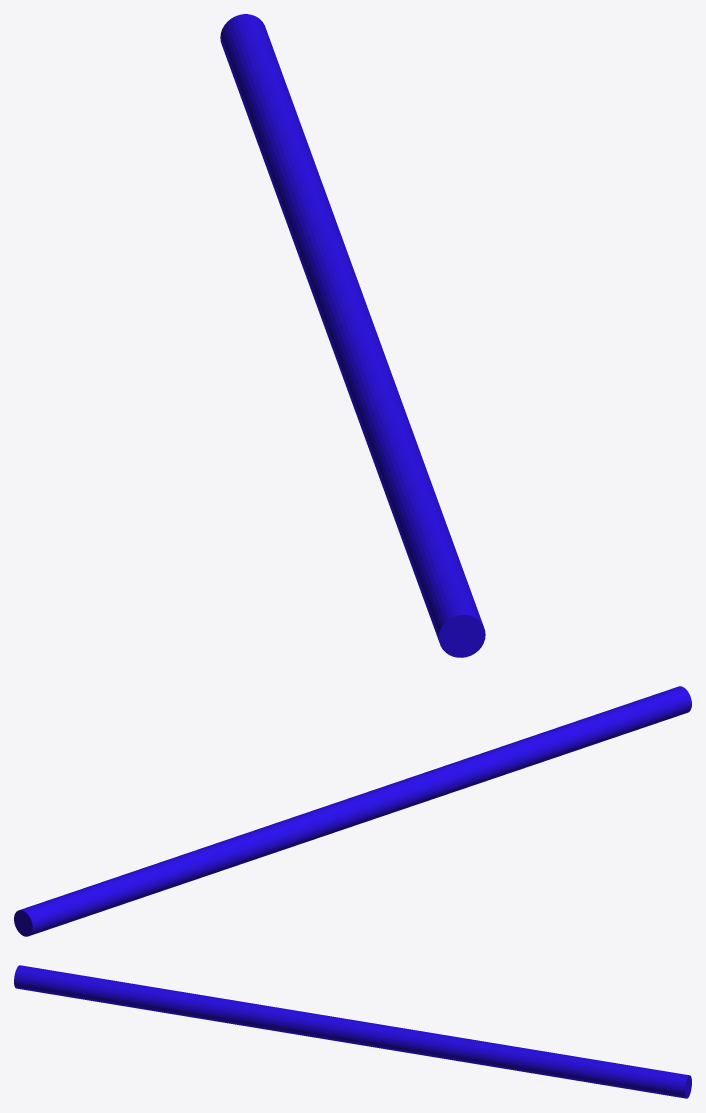
3 renders of one model, top to bottom at view 1: azimuth 30°, elevation 25°; view 2: azimuth 150°, elevation 25°; view 3: azimuth 270°, elevation 25°, orthographic. The views are drawn at different scales.
Parts seen in each view (by area): view 1: Циліндр.004; view 2: Циліндр.004; view 3: Циліндр.004.
Part boxes in pixels (x1,y1,x2,y2): Циліндр.004: (220,14,485,657); Циліндр.004: (14,686,691,936); Циліндр.004: (14,965,691,1098).
Size of the model in its own units: 1.15 by 0.0964 by 2.76.
